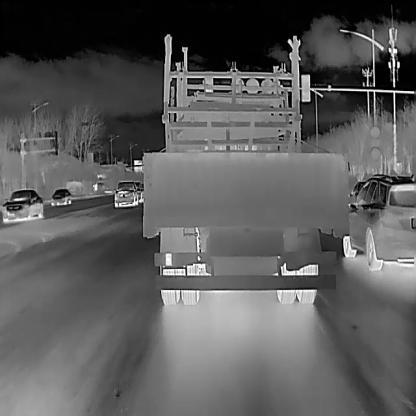car: (140, 81, 348, 304), (342, 172, 416, 271), (2, 187, 44, 223), (111, 180, 138, 208), (49, 186, 72, 207)
